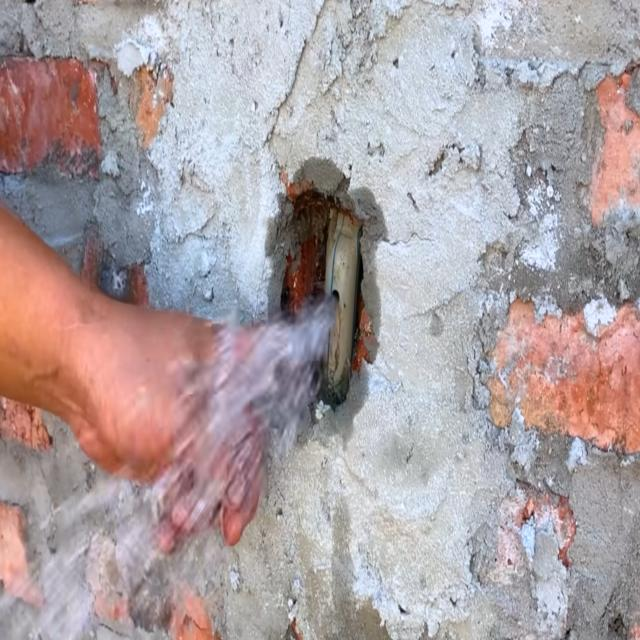leak: (155, 296, 335, 553)
